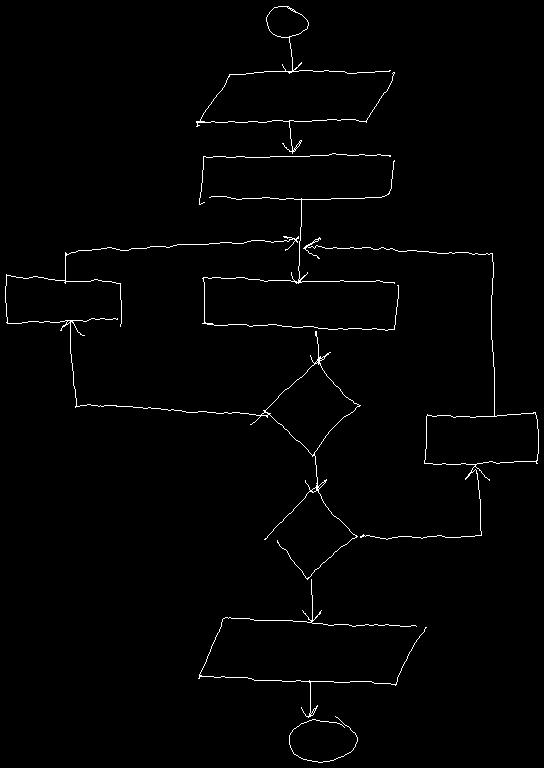arrow: (303, 237, 494, 416), (60, 320, 267, 417), (64, 236, 298, 283), (360, 465, 489, 539), (291, 198, 307, 283), (305, 452, 326, 492), (302, 579, 321, 621), (282, 36, 301, 73), (310, 331, 330, 363), (282, 121, 301, 153), (301, 680, 317, 717)
connection: (289, 716, 357, 762), (266, 6, 308, 37)
data: (198, 617, 426, 685), (196, 70, 394, 126)
decision: (250, 356, 360, 456), (264, 483, 357, 579)
process: (202, 277, 398, 330), (199, 153, 394, 204), (5, 274, 121, 326), (424, 412, 538, 464)
